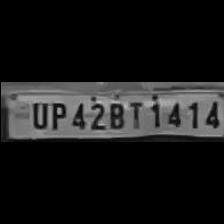1: (182, 98, 200, 128), (144, 100, 162, 128)
2: (86, 99, 104, 131)
4: (66, 99, 86, 130), (162, 98, 182, 128), (202, 97, 220, 129)
B: (104, 99, 125, 130)
P: (46, 99, 66, 130)
T: (125, 100, 144, 128)
U: (26, 100, 48, 128)
